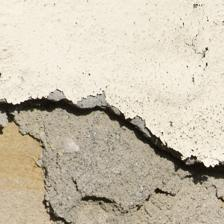Crack: (2, 76, 222, 137), (68, 0, 155, 81), (39, 69, 145, 99)
